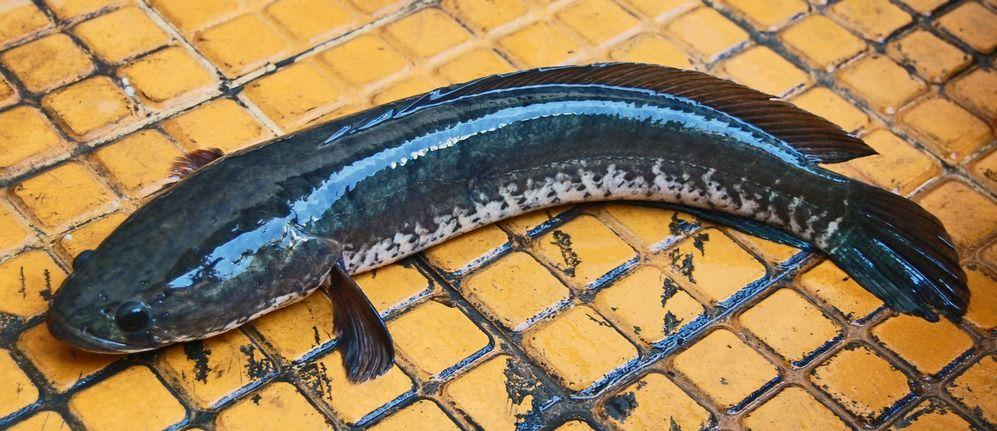Mudfish: (38, 60, 978, 388)
